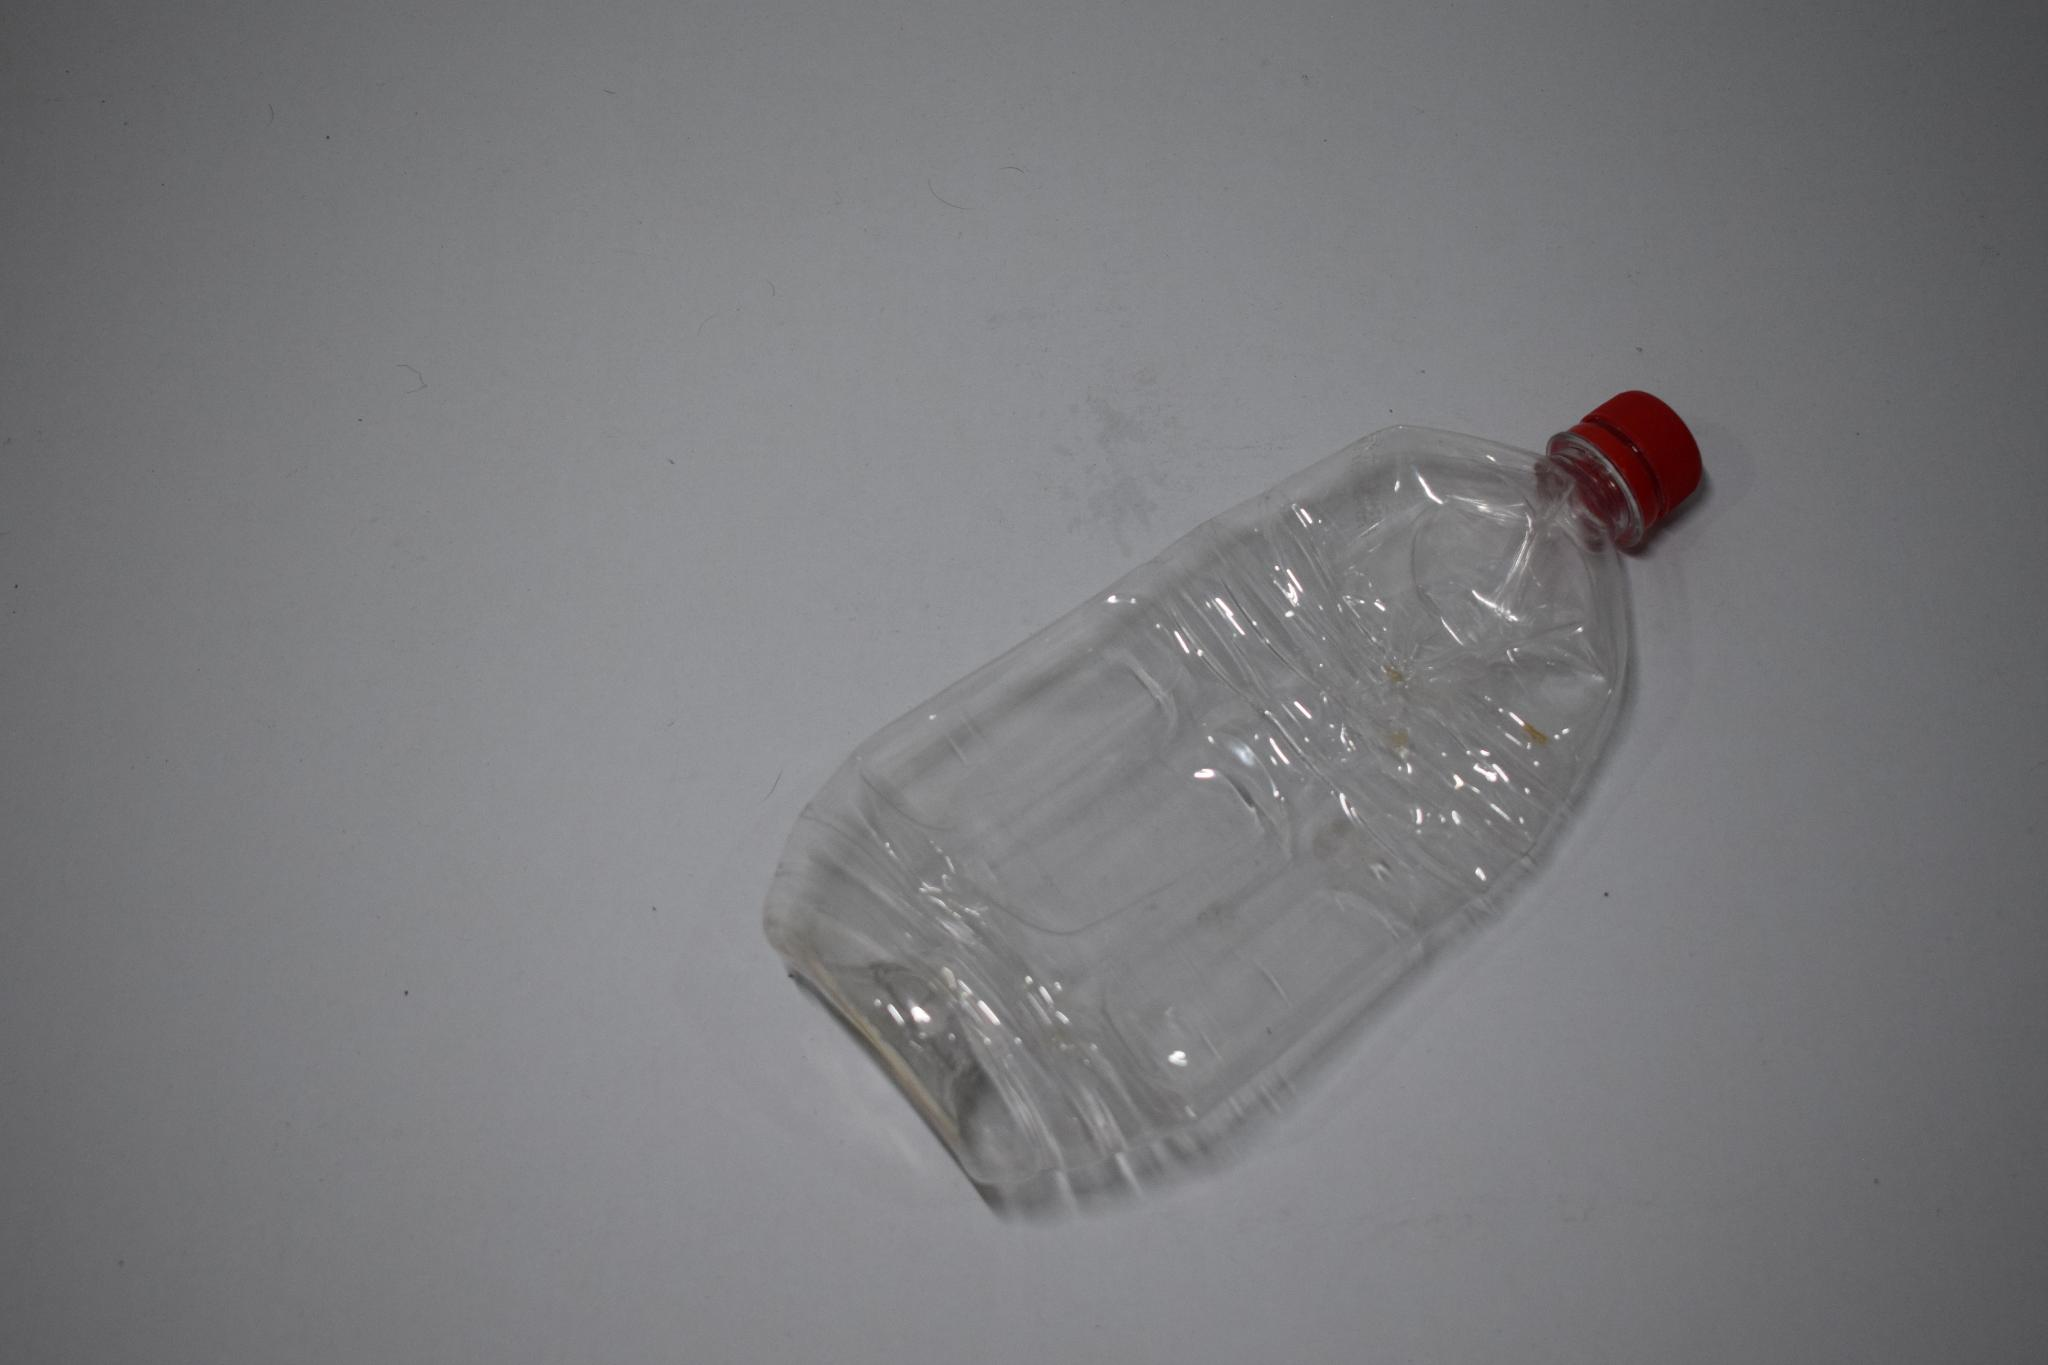bottle: (735, 380, 1763, 1220)
